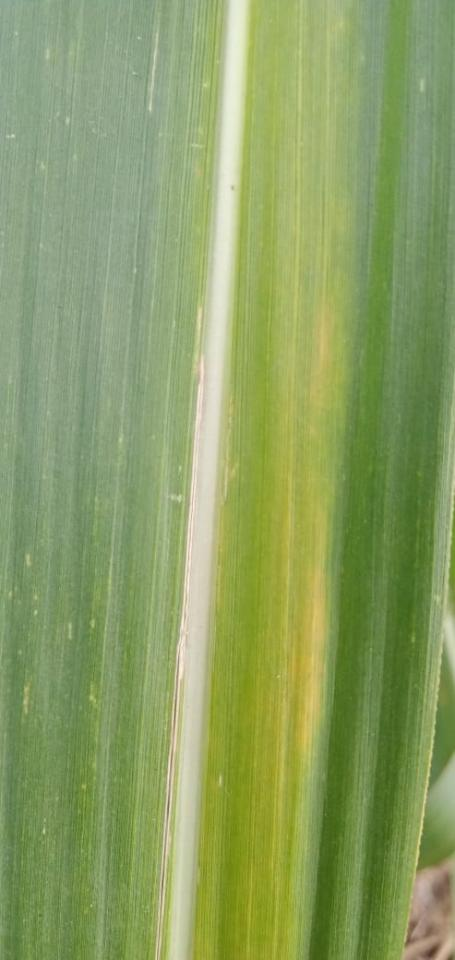Yellow: (307, 569, 327, 755), (315, 317, 332, 366)
